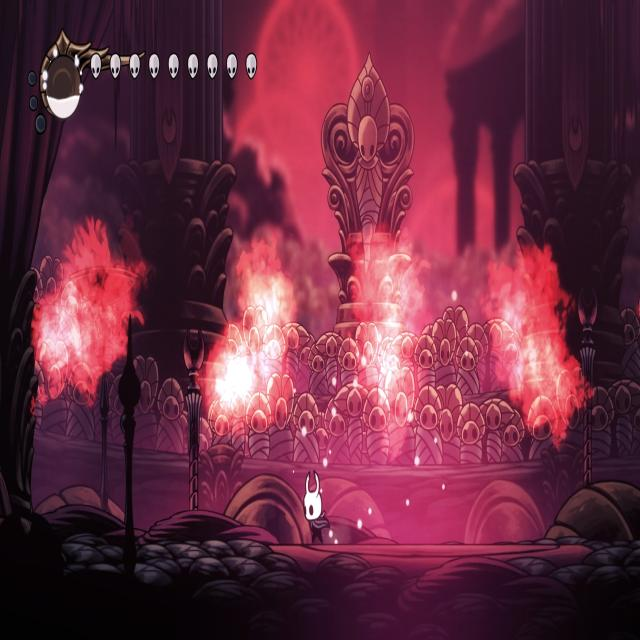Fireball: (499, 306, 577, 411), (31, 287, 108, 389), (212, 342, 263, 420), (370, 323, 407, 405)
Player: (302, 465, 330, 546)
